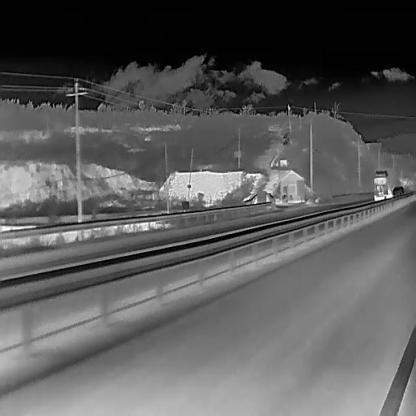car: (373, 167, 401, 202), (241, 192, 275, 207), (391, 185, 404, 197)
